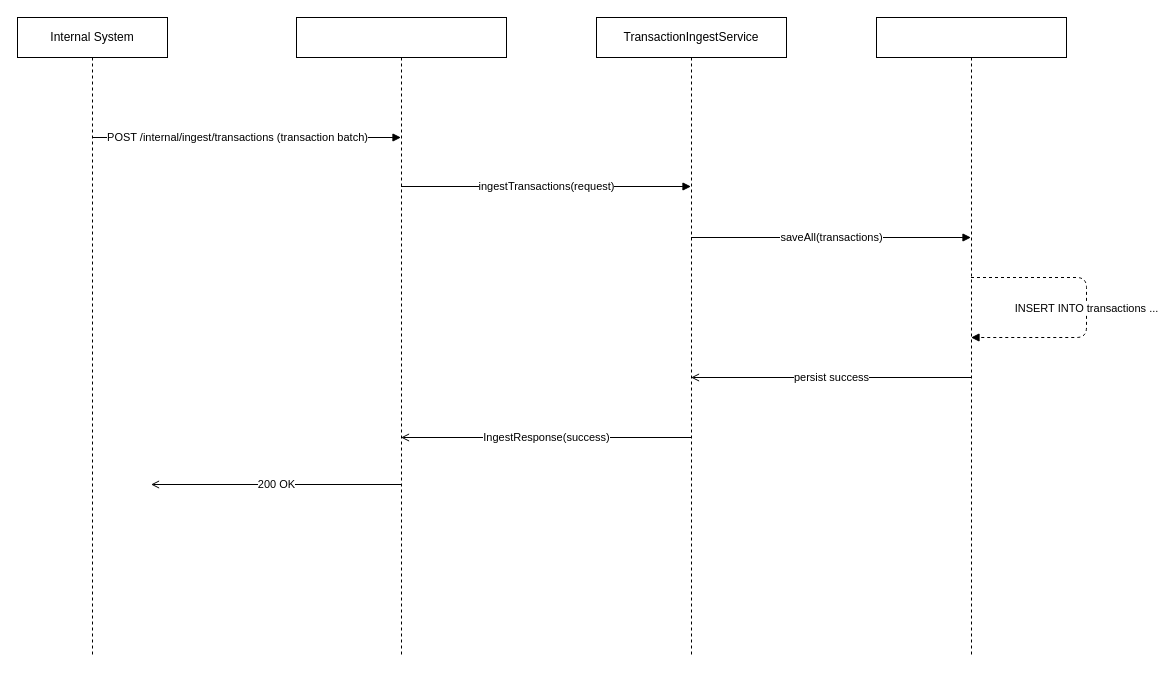
Some shapes in this 1176 by 675 pixel diagram are drawn without their labels. Each missing label, with the box of its shape:
InternalIngestController: (296, 16, 506, 658)
TransactionRepository: (876, 16, 1066, 658)
